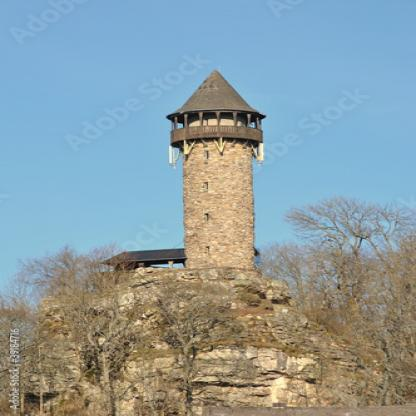lighthouse: (168, 68, 263, 271)
